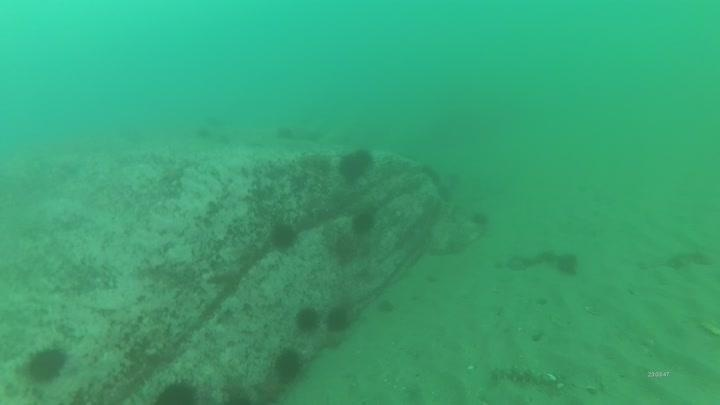echinus: (23, 344, 69, 385), (336, 147, 374, 183), (152, 377, 201, 404), (271, 347, 306, 383), (268, 219, 300, 252), (324, 304, 354, 334), (293, 304, 322, 334), (553, 250, 582, 279), (349, 209, 378, 237), (468, 208, 492, 230), (374, 296, 397, 316)
holothurian: (489, 362, 558, 388), (664, 246, 713, 272)
starfish: (252, 375, 289, 404), (158, 161, 187, 186)
